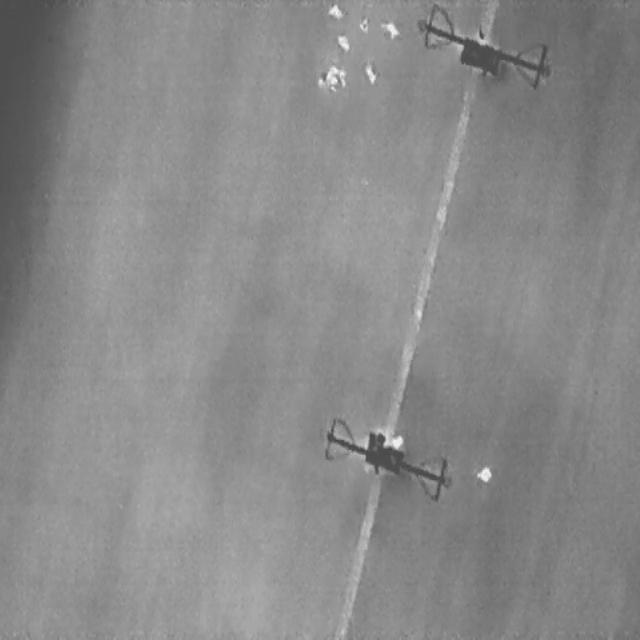Person: (324, 55, 351, 90), (377, 16, 399, 40), (380, 430, 404, 451), (334, 28, 353, 54), (361, 60, 378, 86), (318, 72, 338, 91), (475, 464, 492, 481), (326, 0, 342, 16), (359, 16, 368, 32)
